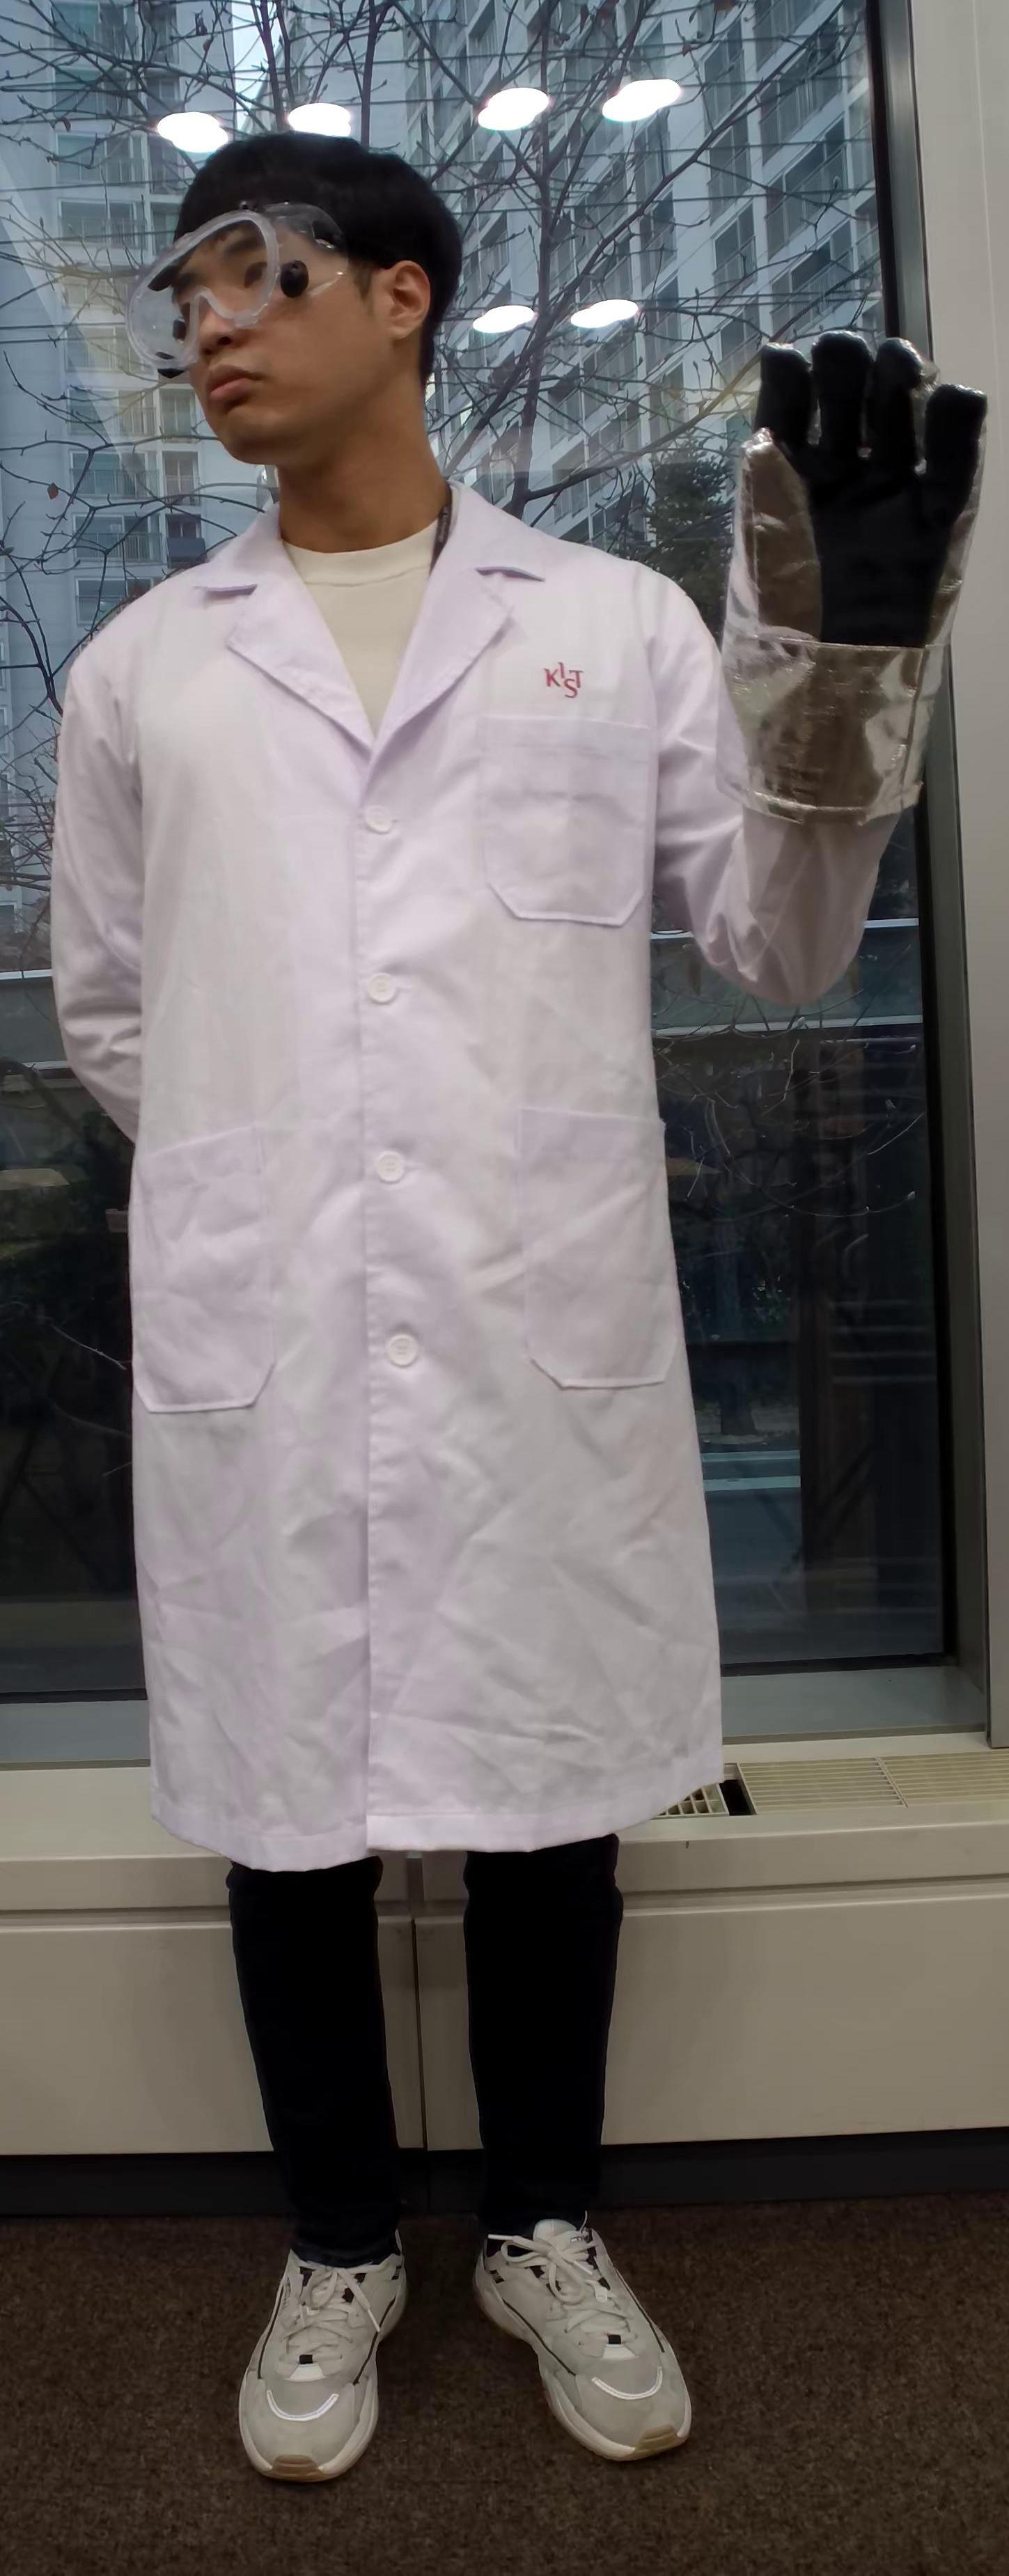lab_coat: (115, 552, 705, 1840)
